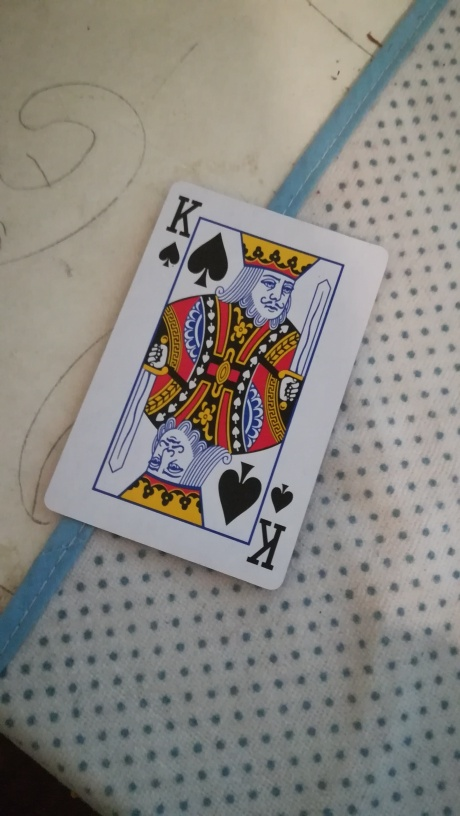ht k: (40, 179, 390, 596)
